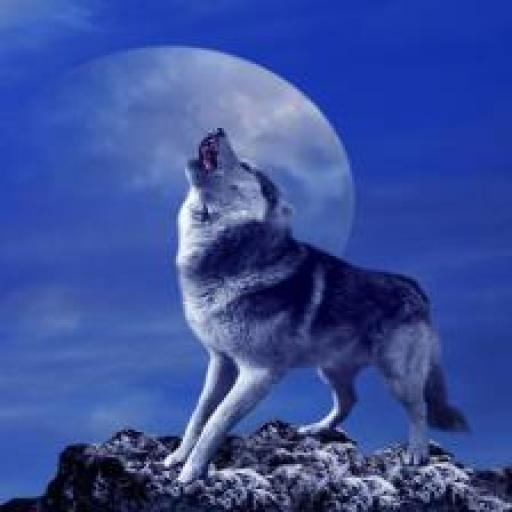wolf: (160, 96, 469, 502)
